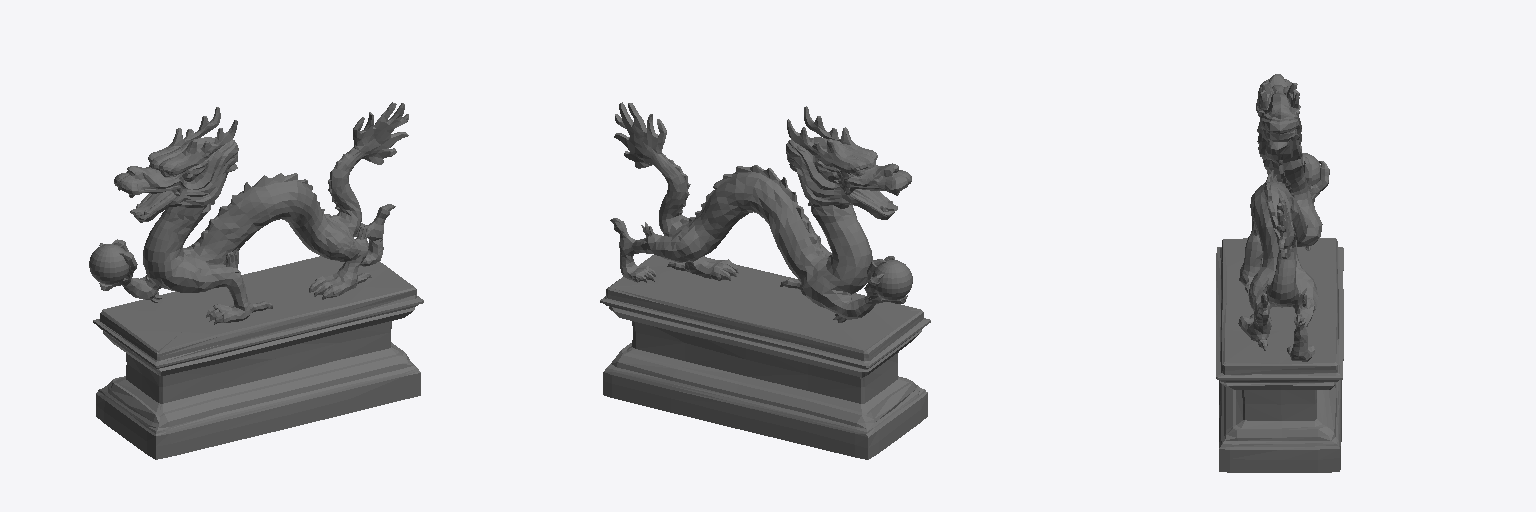
The model's file is china_dragon.obj.
3 views of the same model, side by side, from view 1: azimuth 30°, elevation 25°; view 2: azimuth 150°, elevation 25°; view 3: azimuth 270°, elevation 25° (orthographic).
Visible parts, largest first — view 1: postament_Untitled, dragon_Untitled.001; view 2: postament_Untitled, dragon_Untitled.001; view 3: postament_Untitled, dragon_Untitled.001.
Part boxes in pixels (x1,y1,x2,y2): postament_Untitled: (93, 256, 423, 459); dragon_Untitled.001: (89, 102, 408, 324); postament_Untitled: (600, 255, 930, 459); dragon_Untitled.001: (610, 102, 912, 322); postament_Untitled: (1216, 238, 1343, 472); dragon_Untitled.001: (1238, 74, 1329, 361).
Bounding box in the file's own units: 73.86 × 69.2 × 26.69.